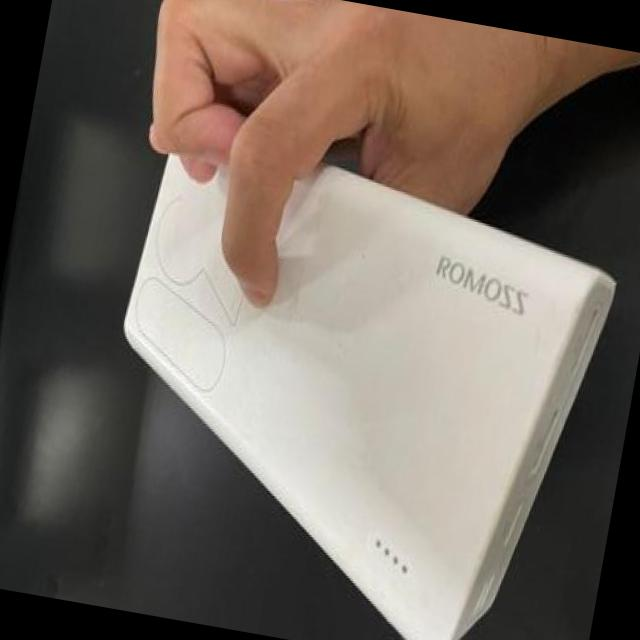power_bank: (53, 85, 640, 640)
